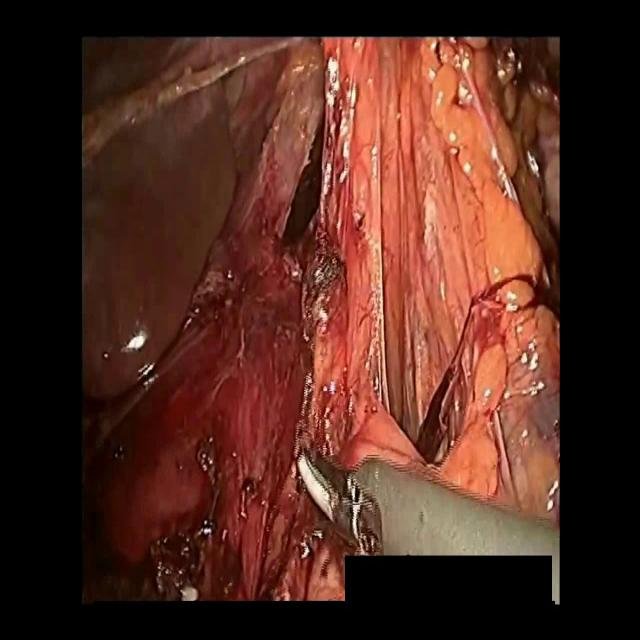surgical-area: (78, 33, 562, 605)
surgical-tool: (292, 434, 562, 612)
